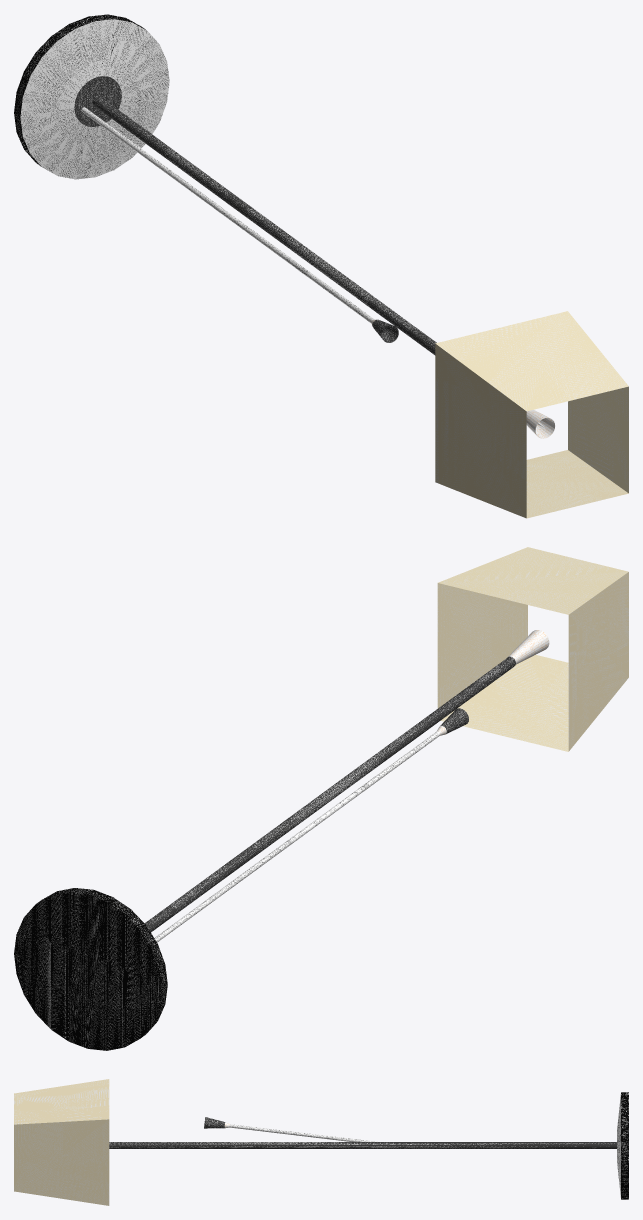
3 views of the same model, one above another, from view 1: azimuth 30°, elevation 25°; view 2: azimuth 150°, elevation 25°; view 3: azimuth 270°, elevation 25° (orthographic). The views are drawn at different scales.
Visible parts, largest first — view 1: lamp; view 2: lamp; view 3: lamp.
Part boxes in pixels (x1=…): lamp: x1=14, y1=14, x2=628, y2=518; lamp: x1=14, y1=547, x2=628, y2=1050; lamp: x1=14, y1=1079, x2=628, y2=1205.
Size of the model in its own units: 11.97 by 11.97 by 68.42.
